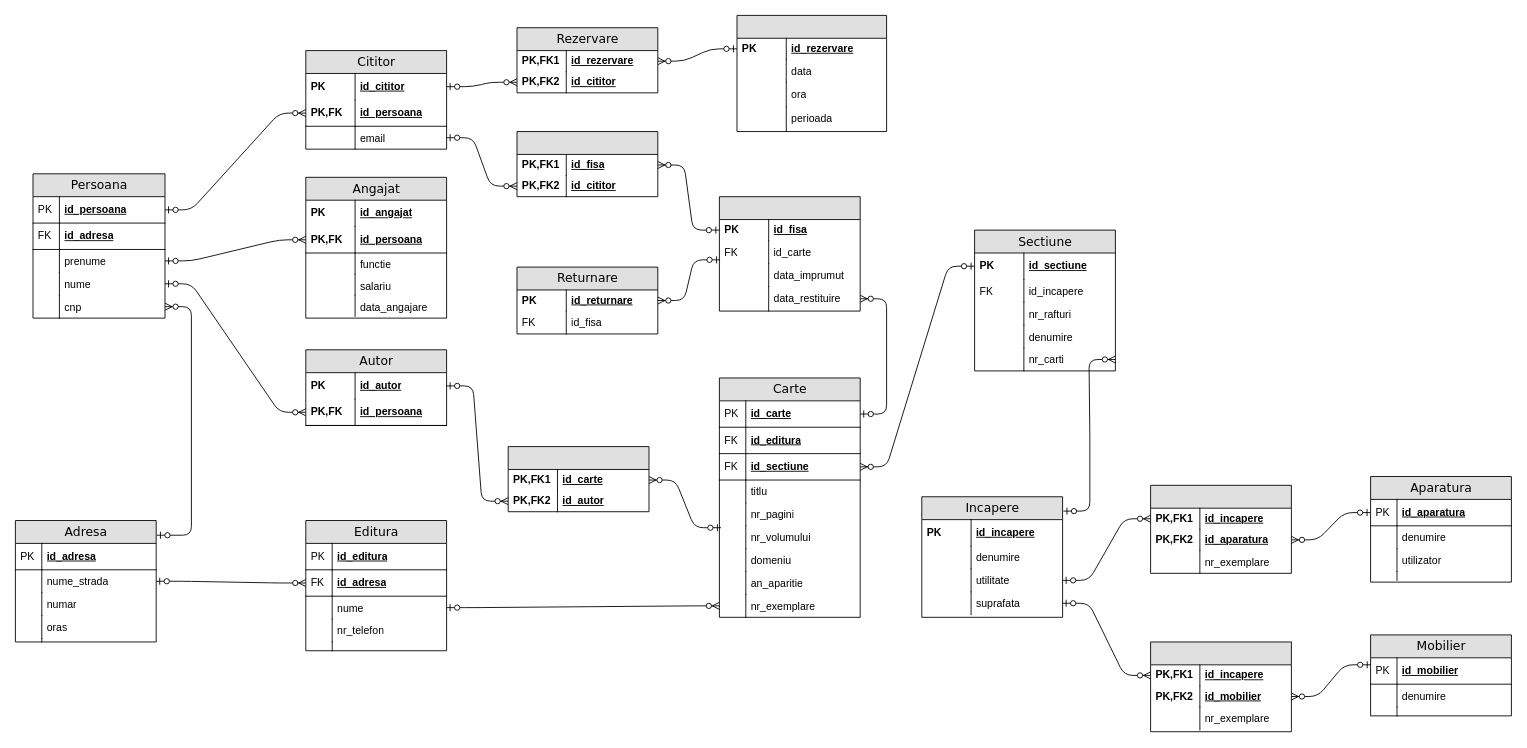
Image size: 1527x748. Some labels were removed from this diagram. Here are the shapes that lost their labels. From the top down, the box of each, then its label:
(736, 15, 887, 132): Rezervare_sala_lectura
(516, 131, 658, 197): Imprumut
(719, 196, 860, 311): Fisa_imprumut
(507, 446, 649, 512): Scris
(1150, 484, 1291, 573): Dotari_aparatura
(1150, 641, 1291, 732): Dotari_mobilier
